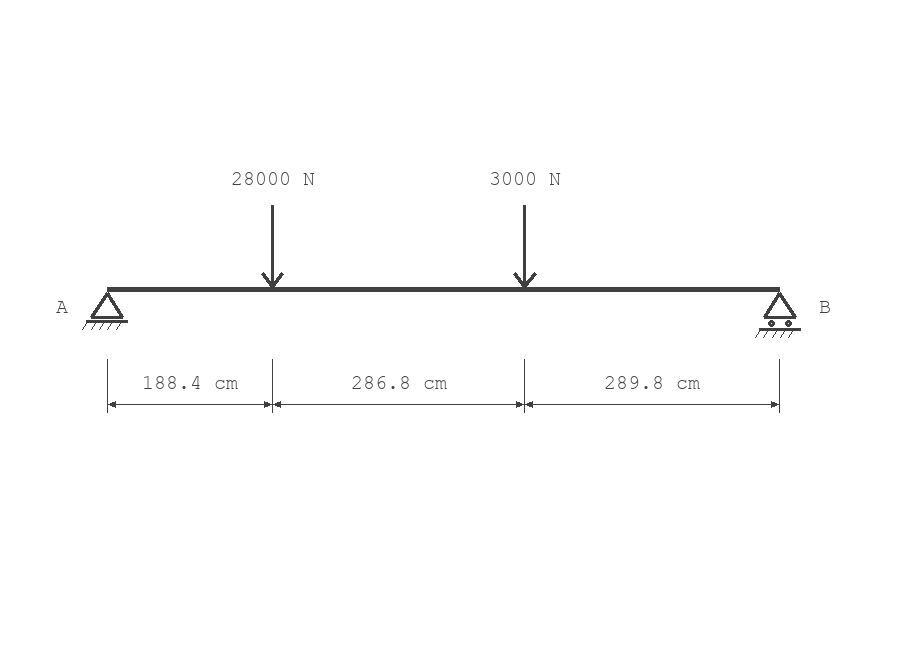pin_support: (82, 292, 128, 330)
point_load: (513, 205, 537, 288), (261, 205, 284, 288)
roller_support: (755, 292, 801, 338)
